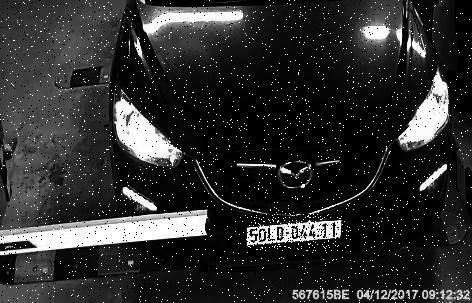License-plate: (249, 216, 353, 253)
